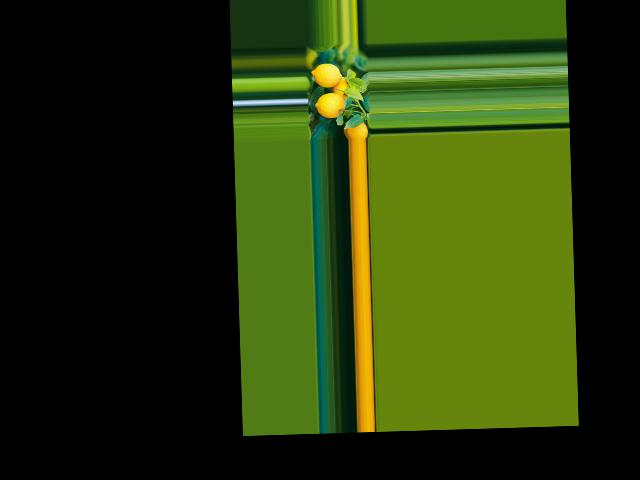lemon: (312, 63, 342, 87)
